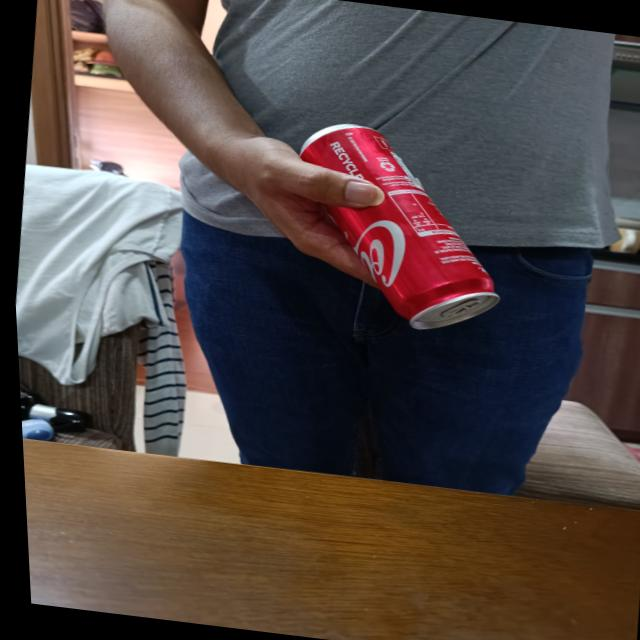coke: (278, 118, 513, 336)
